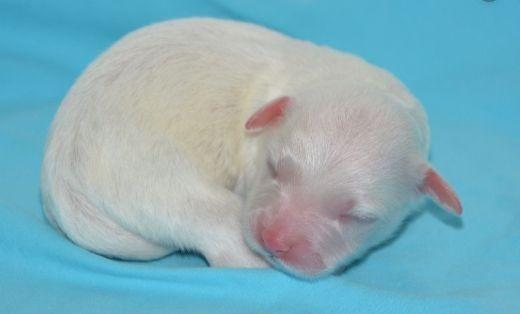puppy-dog: (39, 14, 466, 279)
